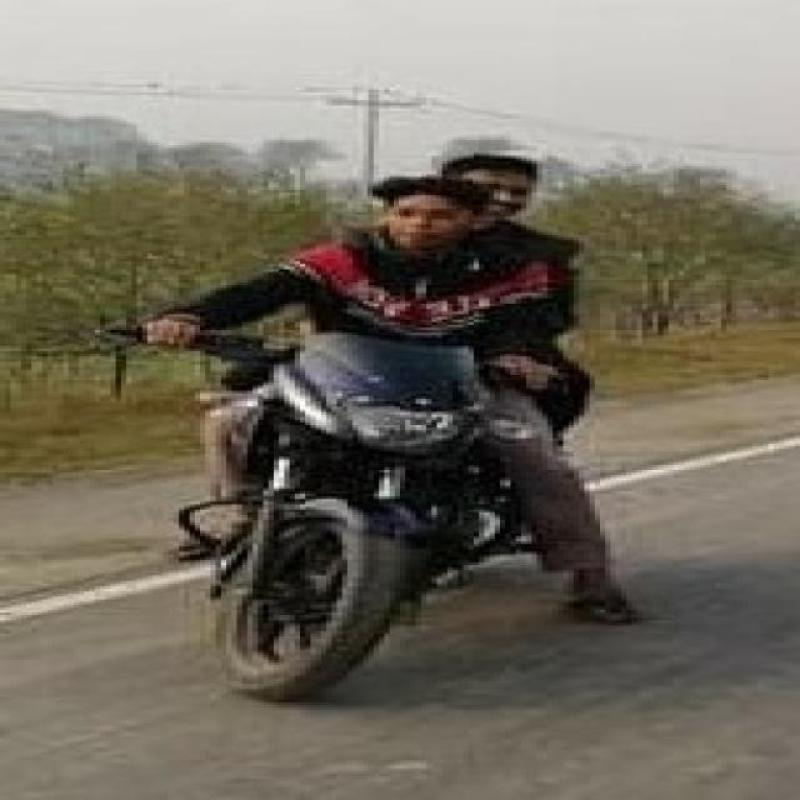nohelmet: (353, 178, 500, 250)
